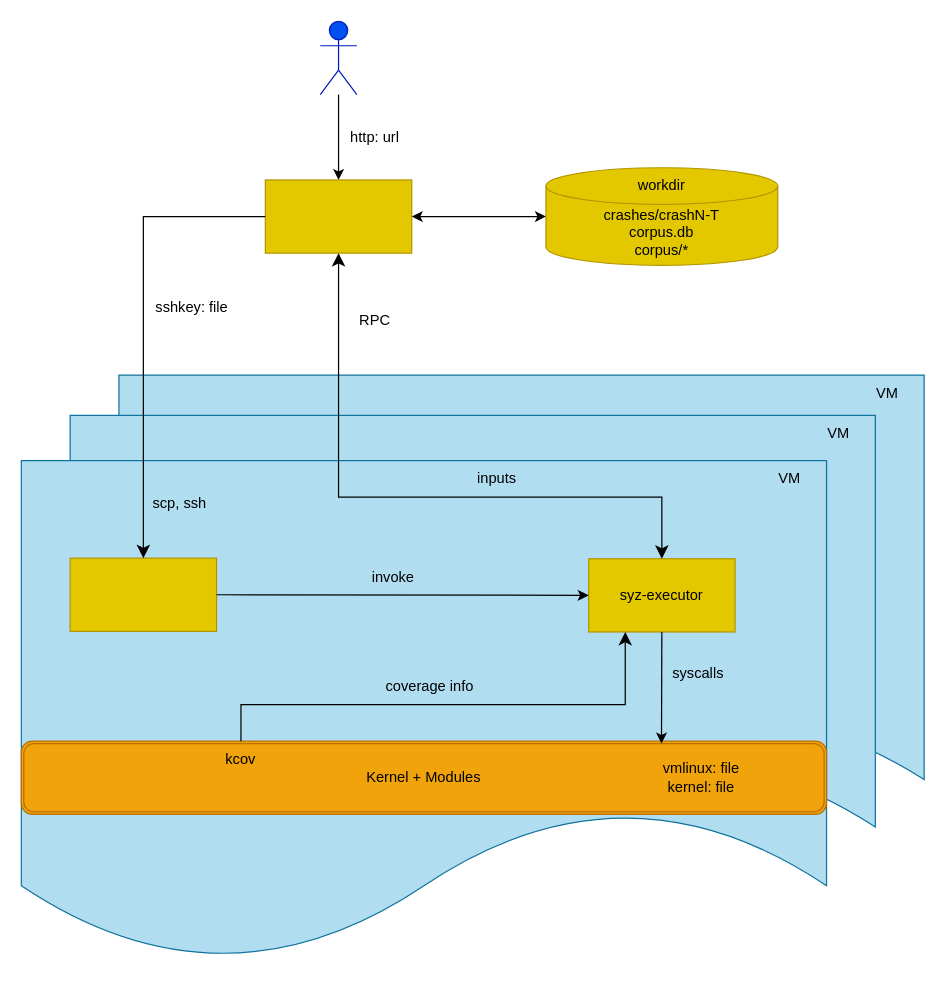
Image size: 946x982. Some labels were removed from this diagram. Here are the shapes that lost their labels. From the top down, the centre of each, then its label:
At point 338,216: "syz-manager".
At point 143,594: "sshd / adbd".
